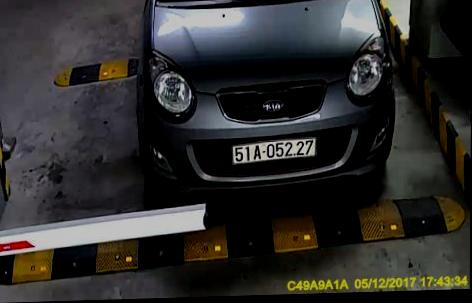License_Plate: (231, 137, 316, 164)
